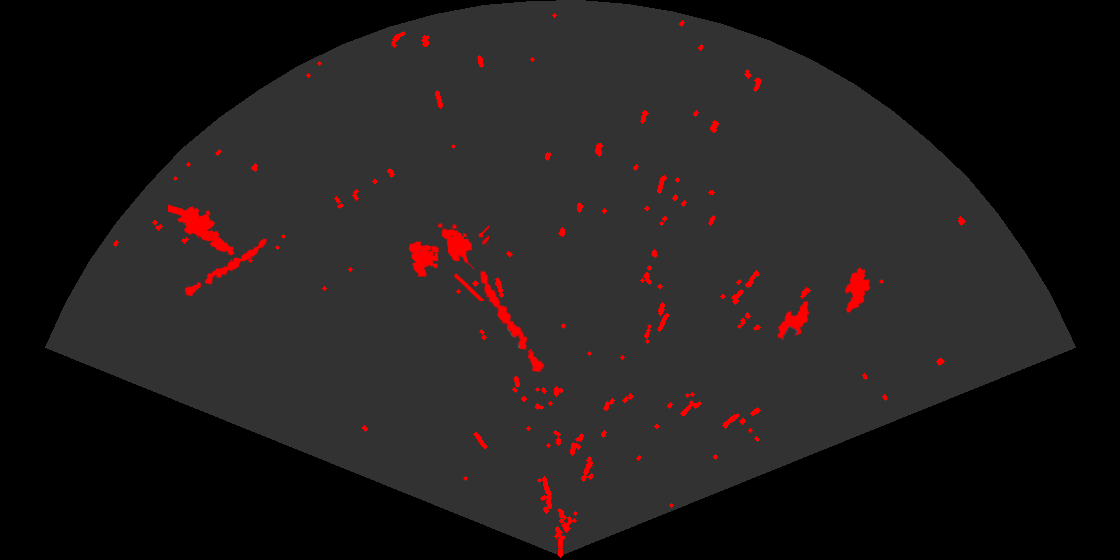AUV: (776, 300, 811, 342), (843, 266, 872, 314)
cage: (407, 222, 489, 301)
chain: (478, 269, 546, 374), (183, 237, 268, 298)
frogman: (168, 203, 236, 257)
